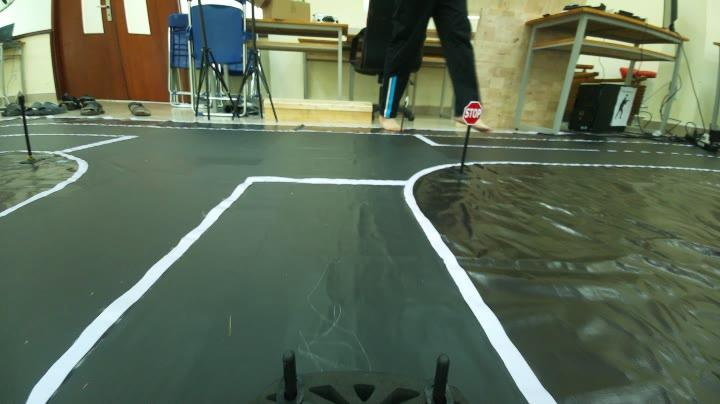stop: (459, 95, 492, 129)
